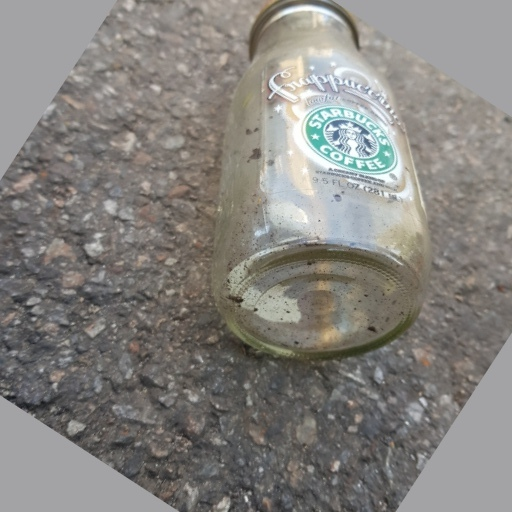Glass_4: (212, 4, 434, 356)
